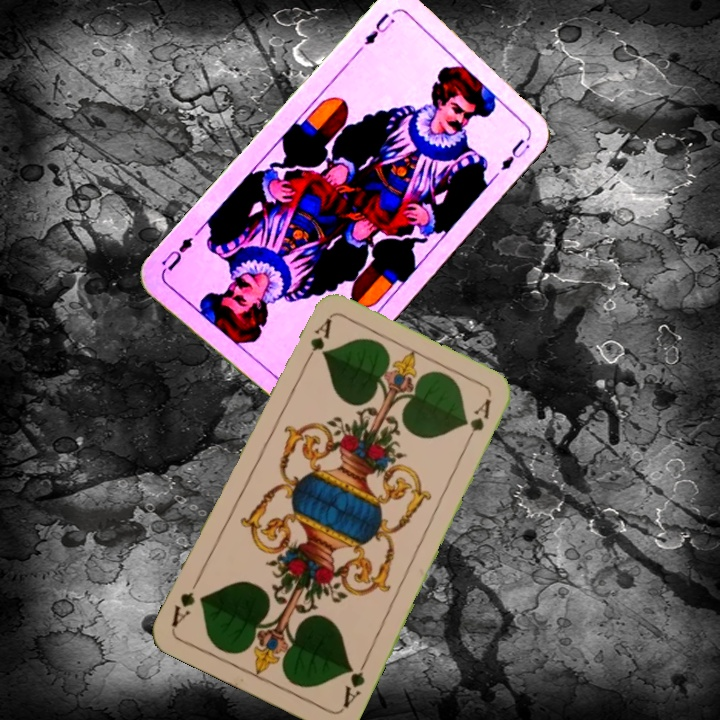EU: (360, 9, 398, 48)
GA: (299, 314, 334, 370), (338, 656, 370, 711)
